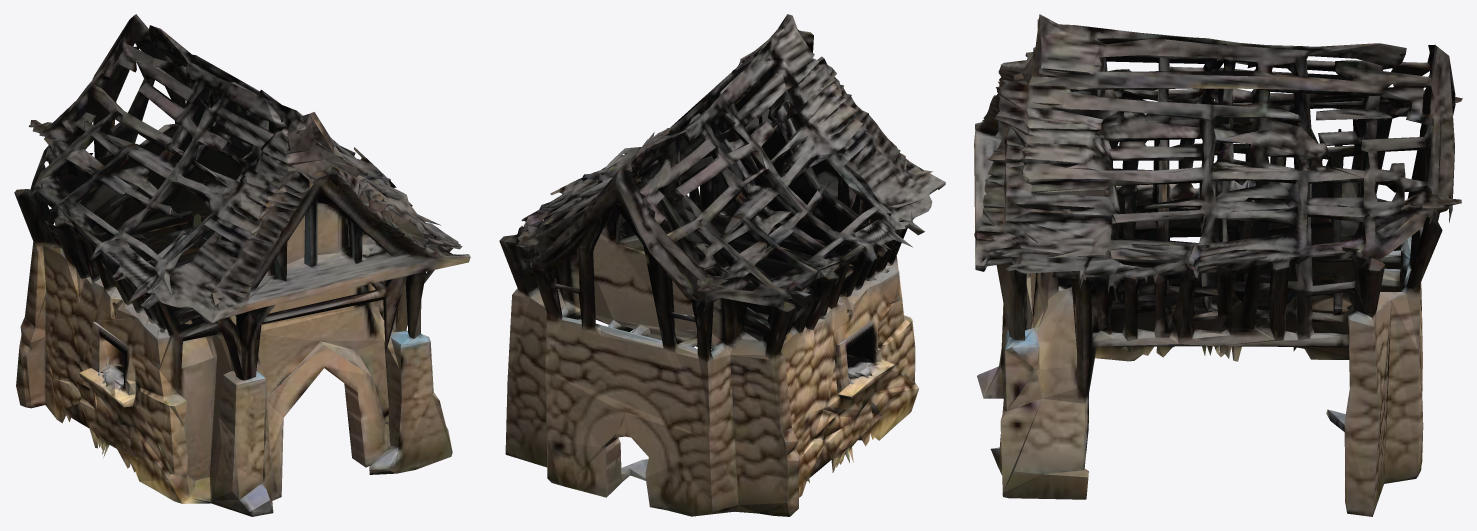
File: war_house_ruin_01.glb
3 views of the same model, side by side, from view 1: azimuth 30°, elevation 25°; view 2: azimuth 150°, elevation 25°; view 3: azimuth 270°, elevation 25° (orthographic). The views are drawn at different scales.
Visible parts, largest first — view 1: geometry_0; view 2: geometry_0; view 3: geometry_0.
Boxes of the visible parts, bbox=[...] form: geometry_0: bbox=[14, 14, 470, 516]; geometry_0: bbox=[499, 14, 945, 516]; geometry_0: bbox=[974, 14, 1462, 516].
Bounding box in the file's own units: 0.8222 × 0.9571 × 0.9991.
1 material, 1 textured.
